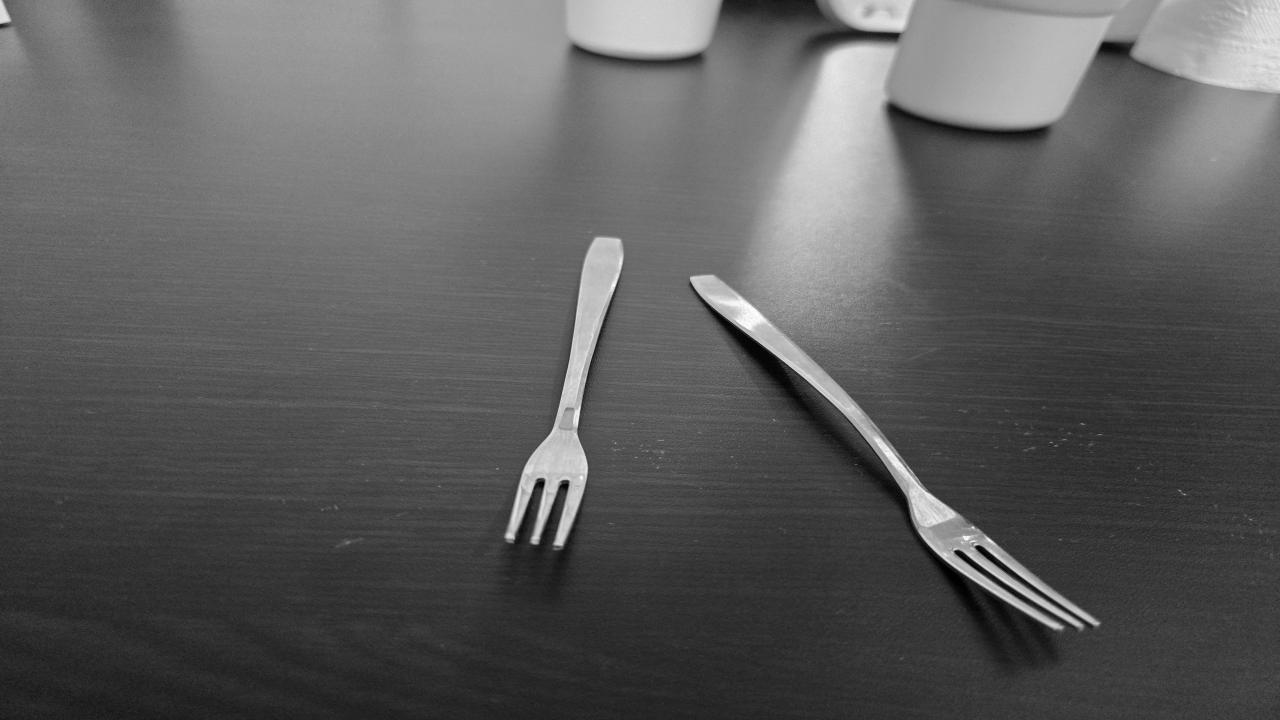fork: (699, 275, 1092, 633), (498, 226, 634, 552)
